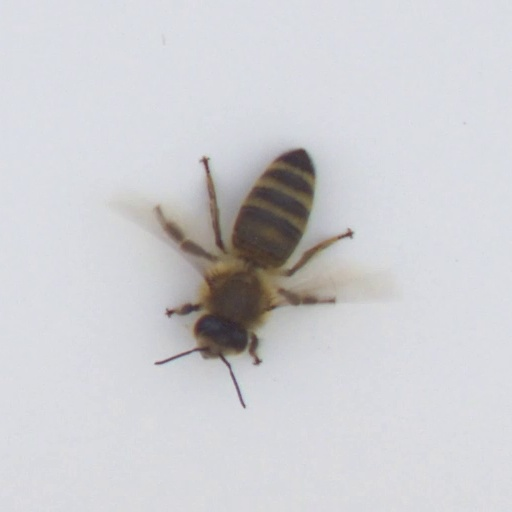Bee: (172, 132, 344, 379)
Thorax: (197, 264, 277, 327)
